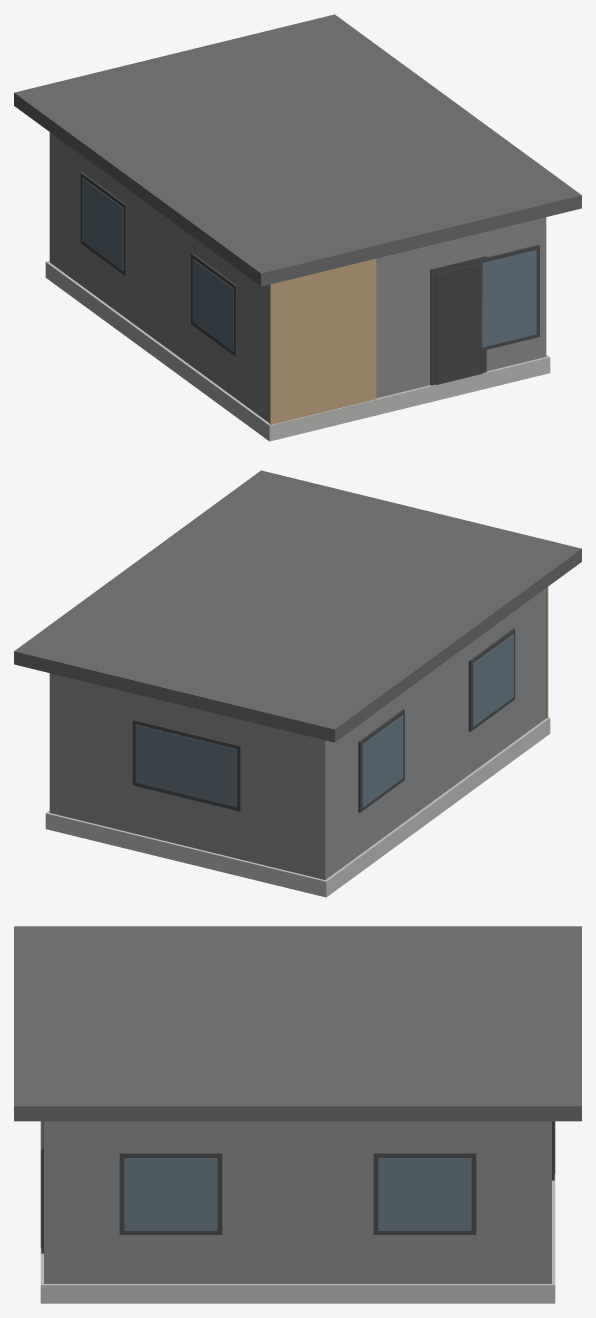
The model's file is garage-modern.glb.
The picture shows the model from 3 angles, top to bottom: view 1: azimuth 30°, elevation 25°; view 2: azimuth 150°, elevation 25°; view 3: azimuth 270°, elevation 25°; orthographic projection. The views are drawn at different scales.
Parts seen in each view (by area): view 1: The Conversion (modern); view 2: The Conversion (modern); view 3: The Conversion (modern).
Part boxes in pixels (x1,y1,x2,y2): The Conversion (modern): (14,14,581,441); The Conversion (modern): (14,470,581,897); The Conversion (modern): (14,926,581,1303).
Bounding box in the file's own units: 6.39 × 3.45 × 8.52.
